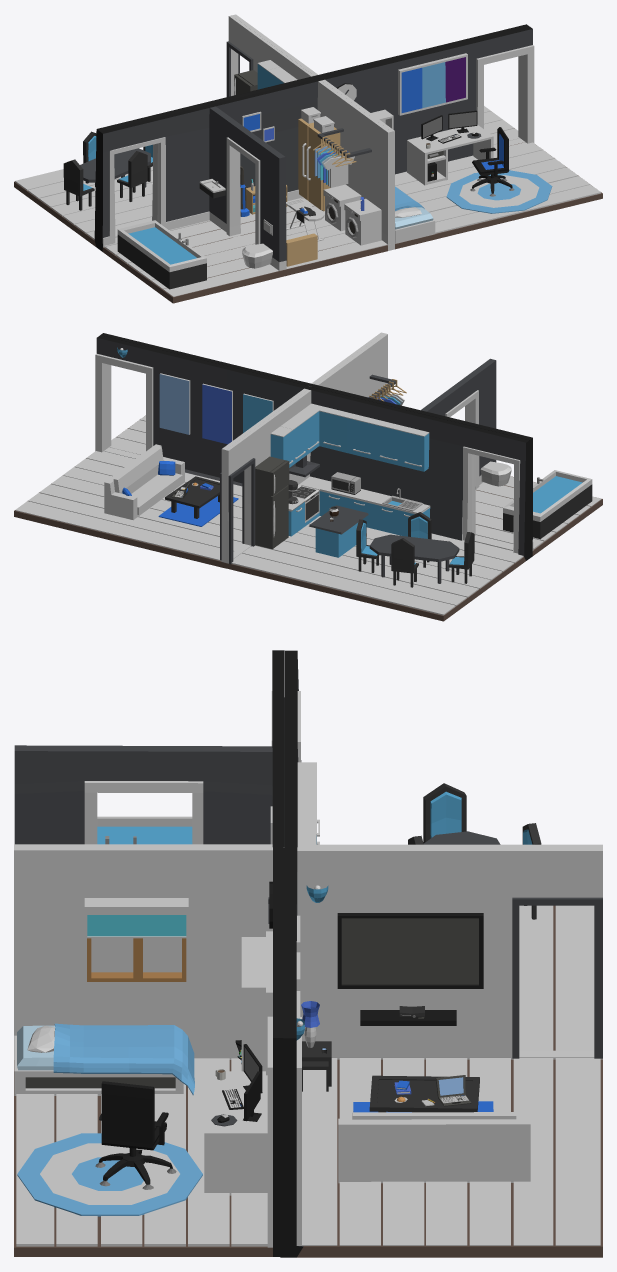
Rendered from Blue House.fbx.
3 views of the same model, one above another, from view 1: azimuth 30°, elevation 25°; view 2: azimuth 150°, elevation 25°; view 3: azimuth 270°, elevation 25° (orthographic). The views are drawn at different scales.
Parts seen in each view (by area): view 1: Window.001, Cube.011, Wall Paint, Window.000, PC, Closet, Bed.001, Wash 2, Chair.001, Wash, Cube.003, Object 1 (+9 smaller); view 2: Window.001, Kitchen 2, Sofa, Cube.011, Freezer, Kitchen 1, 1, Art, Art.002, Cylinder, Others.005, Others (+9 smaller); view 3: Window.001, Sofa, Bed.001, TV1, Window.000, PC, Window.002, Chair.001, Objects, Others.005, Cube.011, Cube.003 (+4 smaller).
Part boxes in pixels (x1,y1,x2,y2): Window.001: [14, 14, 602, 303]; Cube.011: [117, 220, 206, 289]; Wall Paint: [398, 53, 467, 115]; Window.000: [446, 170, 552, 213]; PC: [407, 124, 493, 185]; Closet: [298, 118, 340, 211]; Bed.001: [395, 186, 435, 243]; Wash 2: [344, 198, 381, 245]; Chair.001: [470, 127, 514, 196]; Wash: [323, 184, 361, 231]; Cube.003: [63, 159, 94, 210]; Object 1: [286, 233, 317, 266]; Window.001: [14, 332, 602, 621]; Kitchen 2: [270, 403, 429, 471]; Sofa: [104, 444, 184, 520]; Cube.011: [503, 470, 592, 539]; Freezer: [255, 456, 289, 549]; Kitchen 1: [319, 481, 430, 536]; 1: [309, 505, 368, 557]; Art: [159, 373, 190, 434]; Art.002: [202, 383, 232, 444]; Cylinder: [369, 534, 459, 583]; Others.005: [165, 476, 219, 518]; Others: [158, 496, 238, 526]; Window.001: [14, 650, 602, 1257]; Sofa: [338, 1112, 530, 1183]; Bed.001: [14, 1023, 194, 1095]; TV1: [337, 913, 483, 988]; Window.000: [17, 1133, 202, 1216]; PC: [204, 1071, 267, 1195]; Window.002: [84, 898, 188, 981]; Chair.001: [95, 1081, 176, 1189]; Objects: [235, 937, 265, 1071]; Others.005: [369, 1075, 479, 1112]; Cube.011: [97, 816, 192, 844]; Cube.003: [423, 783, 466, 843].
Bounding box in the file's own units: 748 × 198 × 480.
